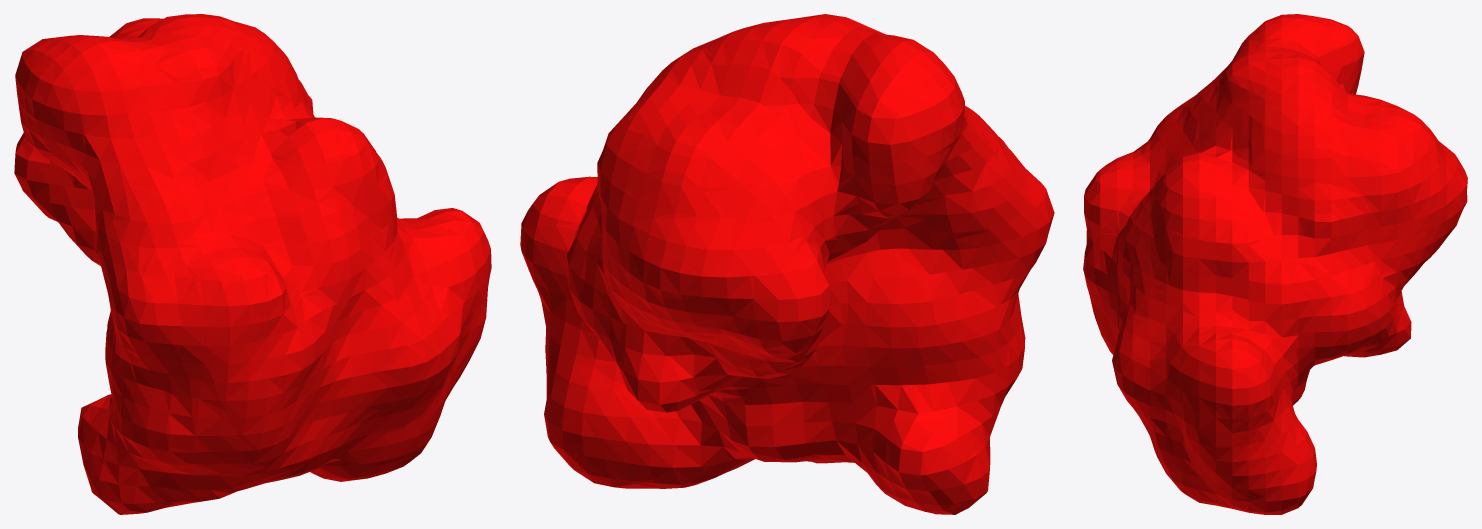
File: fecE_coarse.dae
3 renders of one model, left to right at view 1: azimuth 30°, elevation 25°; view 2: azimuth 150°, elevation 25°; view 3: azimuth 270°, elevation 25°, orthographic. The views are drawn at different scales.
Visible parts, largest first — view 1: fecE; view 2: fecE; view 3: fecE.
Part boxes in pixels (x1,y1,x2,y2): fecE: (14, 14, 491, 514); fecE: (520, 14, 1054, 514); fecE: (1083, 14, 1467, 514).
Size of the model in its own units: 53.24 by 55.65 by 50.21.
